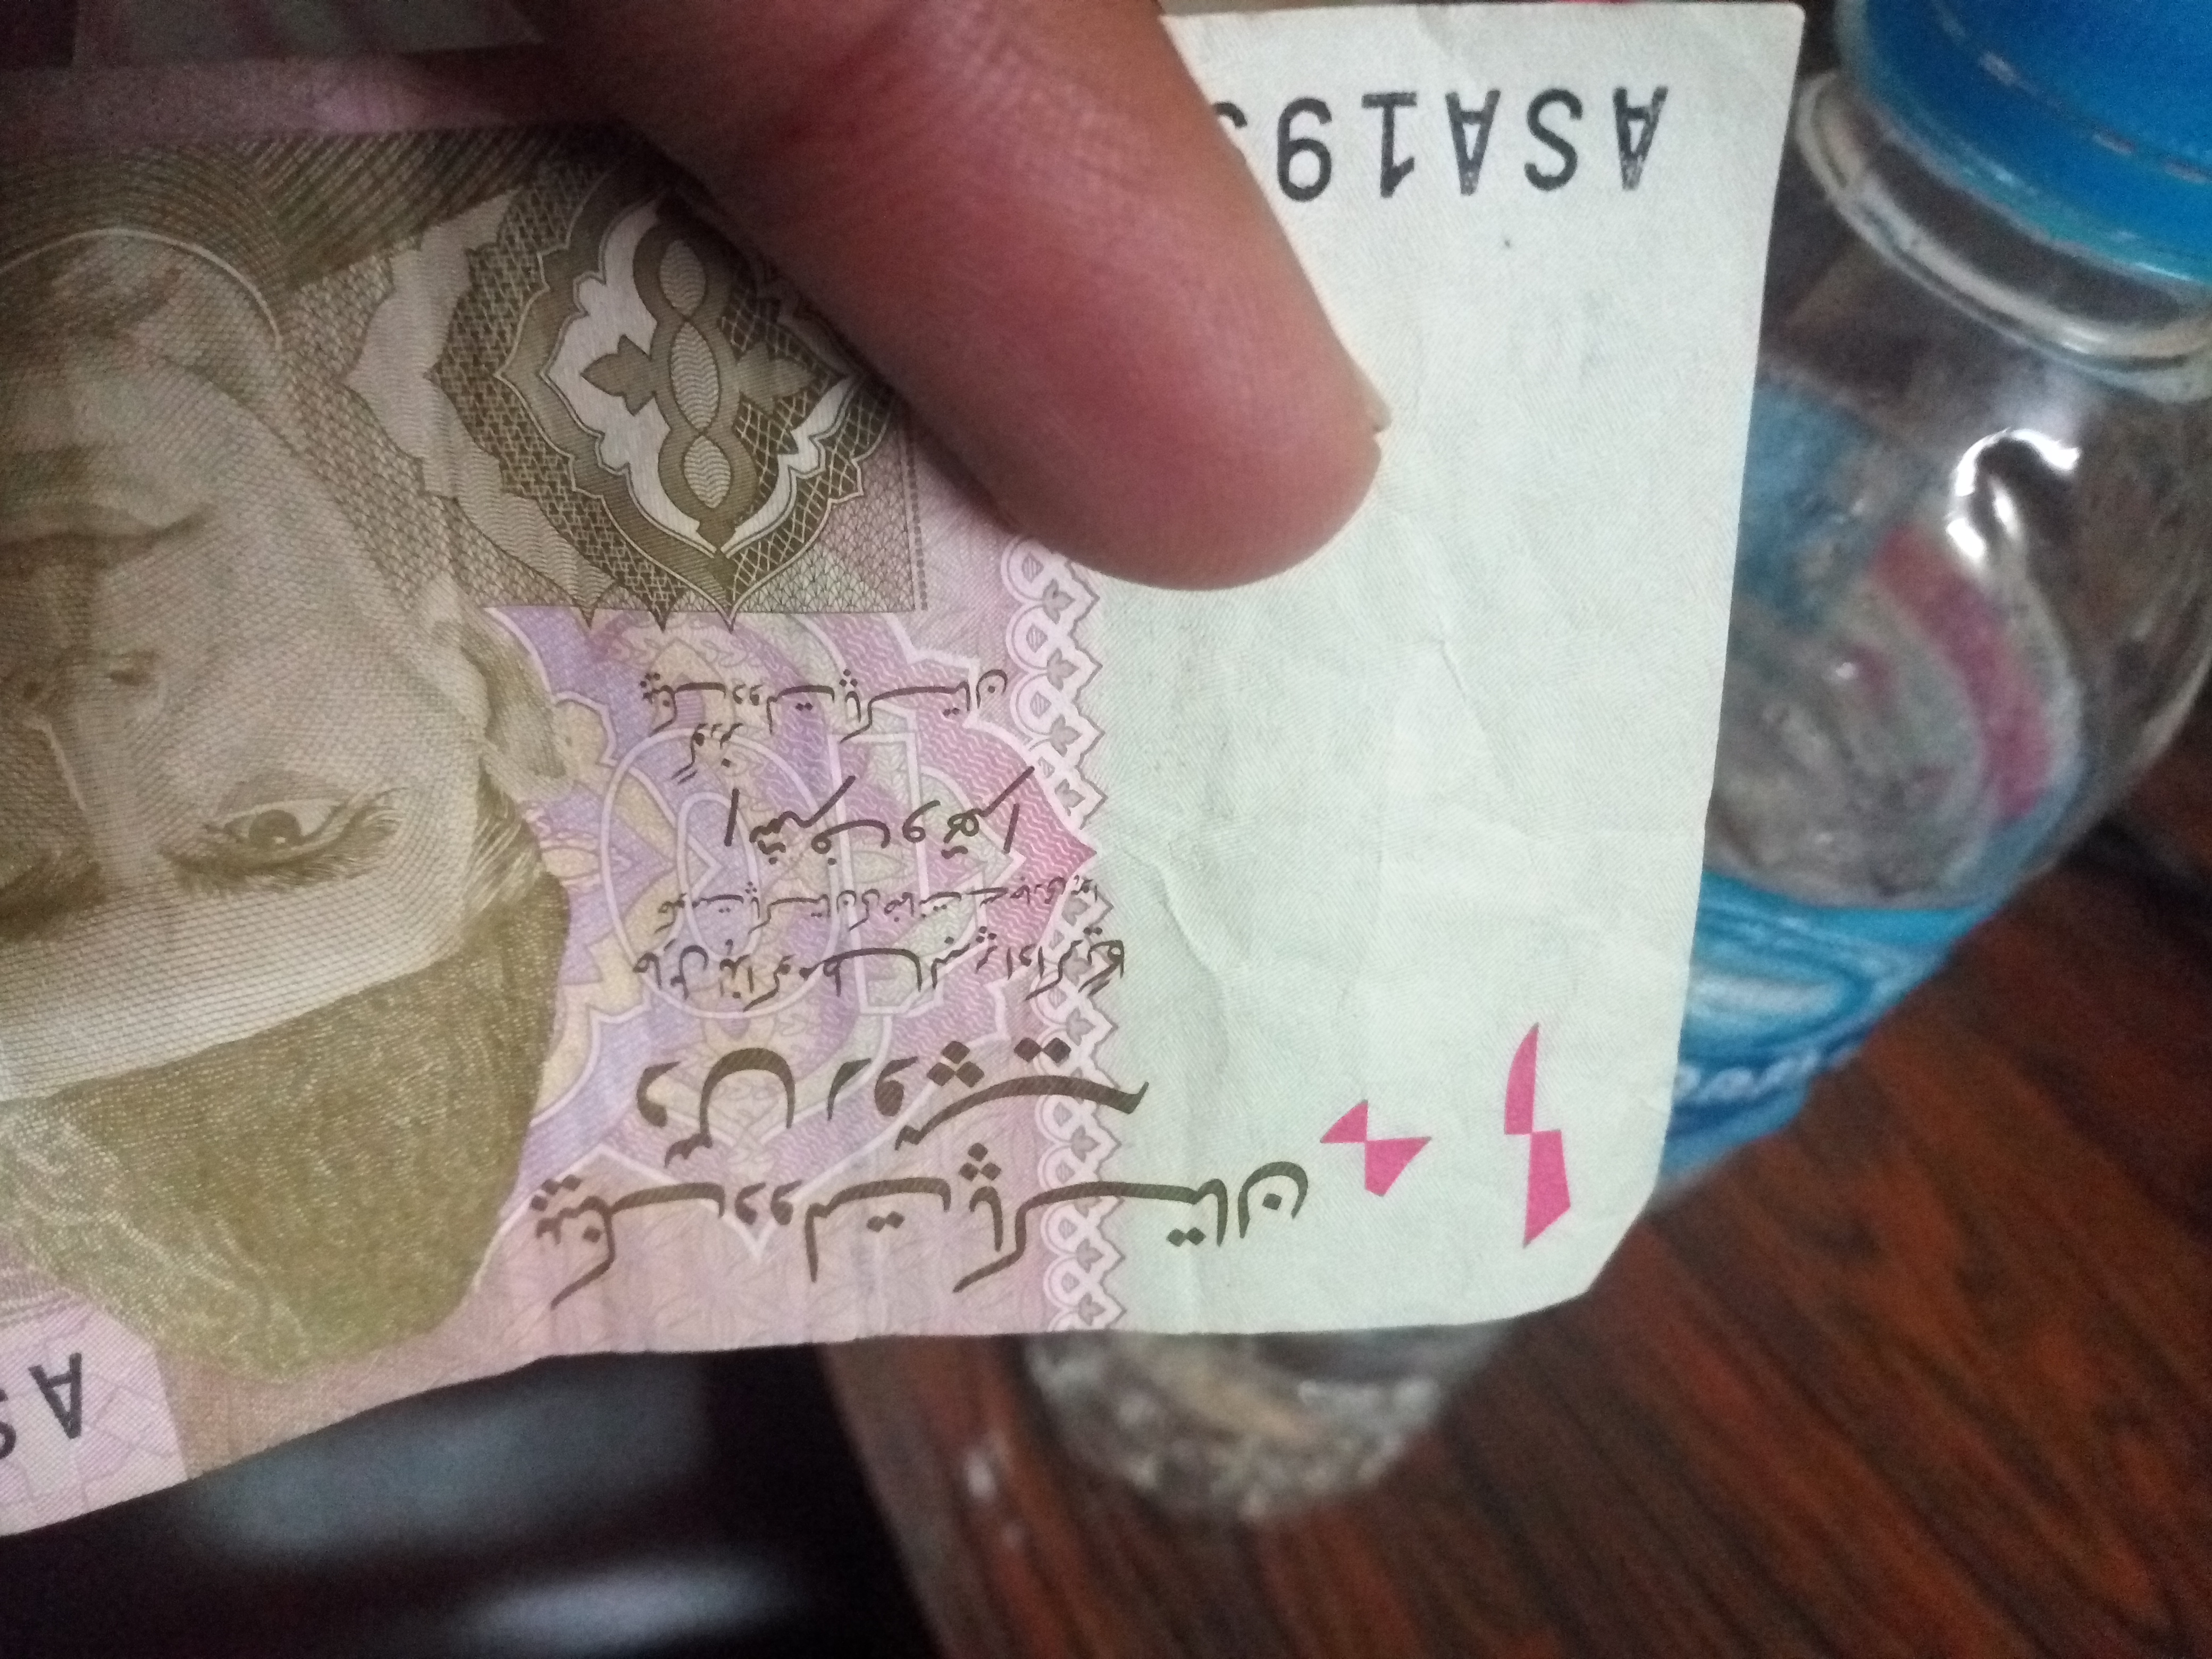10 rupee: (47, 28, 1855, 1588)
